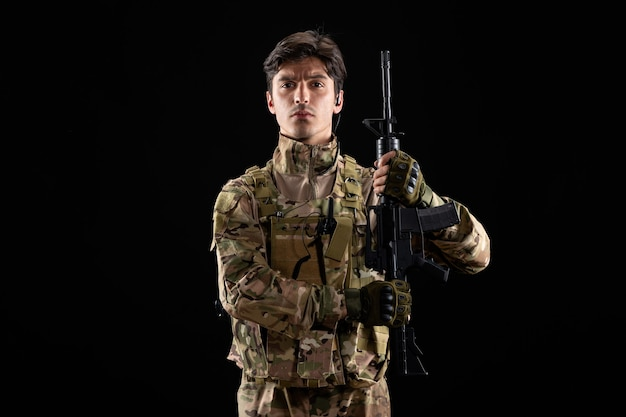gun: (361, 47, 462, 377)
